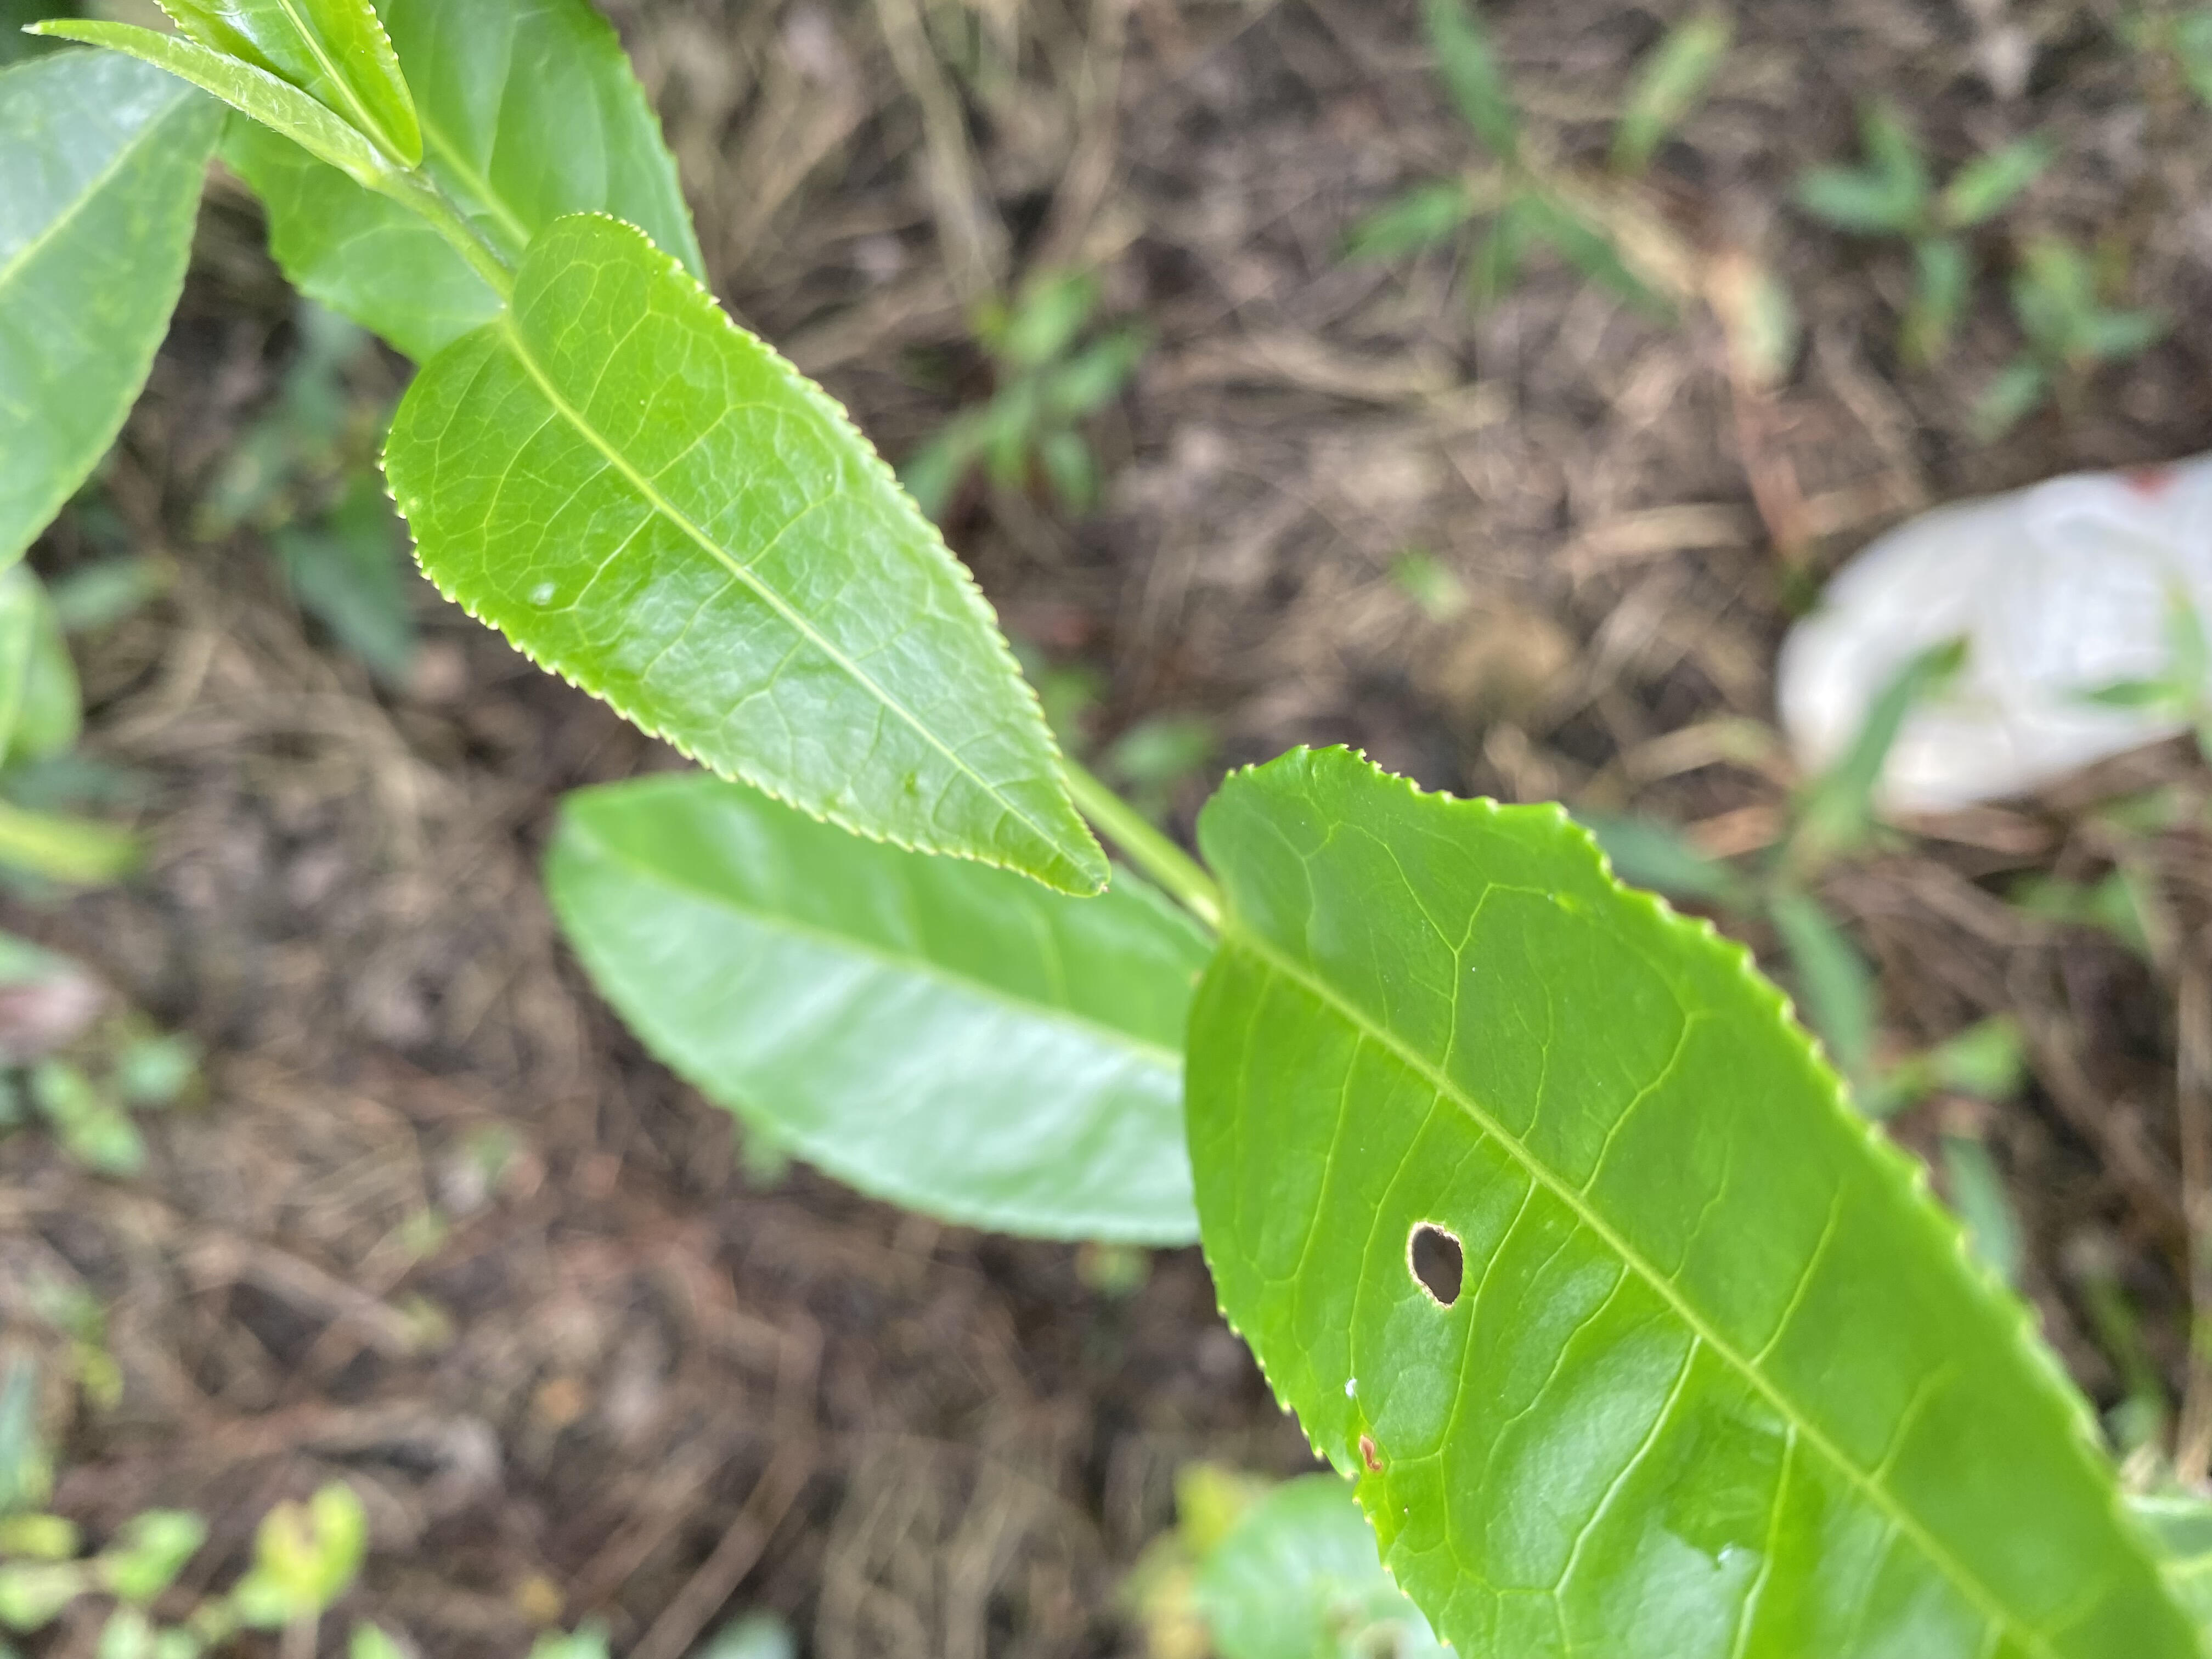chihuo_low: (1174, 741, 2196, 1659)
